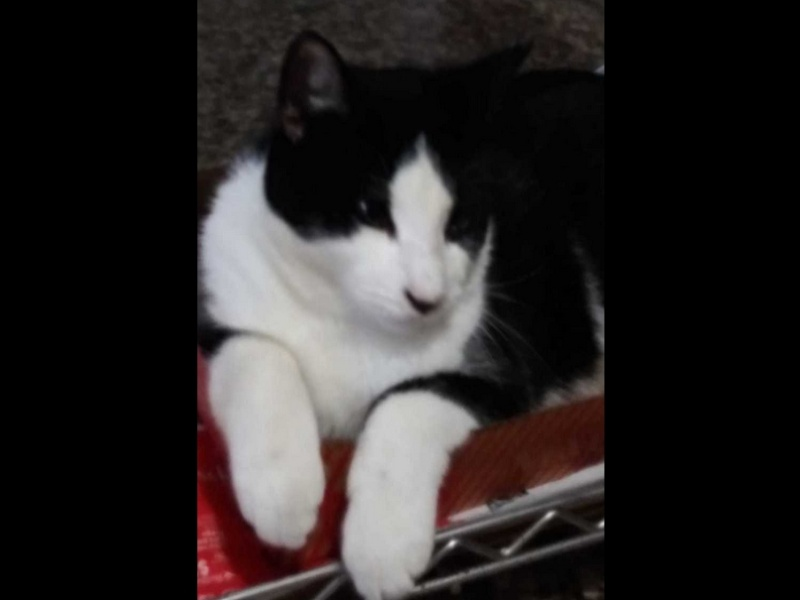cat: (204, 39, 599, 596)
